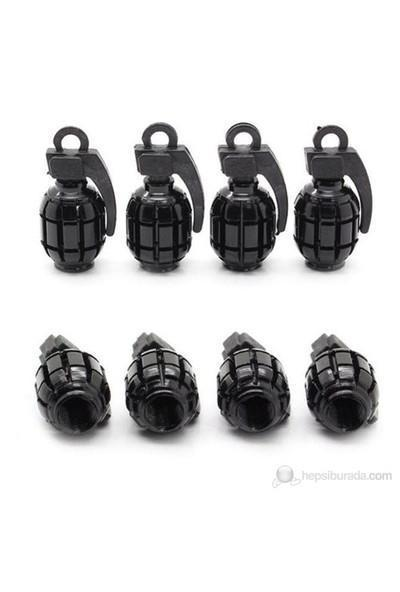Grenade: (291, 123, 372, 272), (124, 121, 203, 273), (208, 120, 287, 271), (38, 124, 117, 272), (32, 332, 112, 436), (122, 331, 201, 435), (302, 331, 379, 435), (215, 330, 291, 434)
